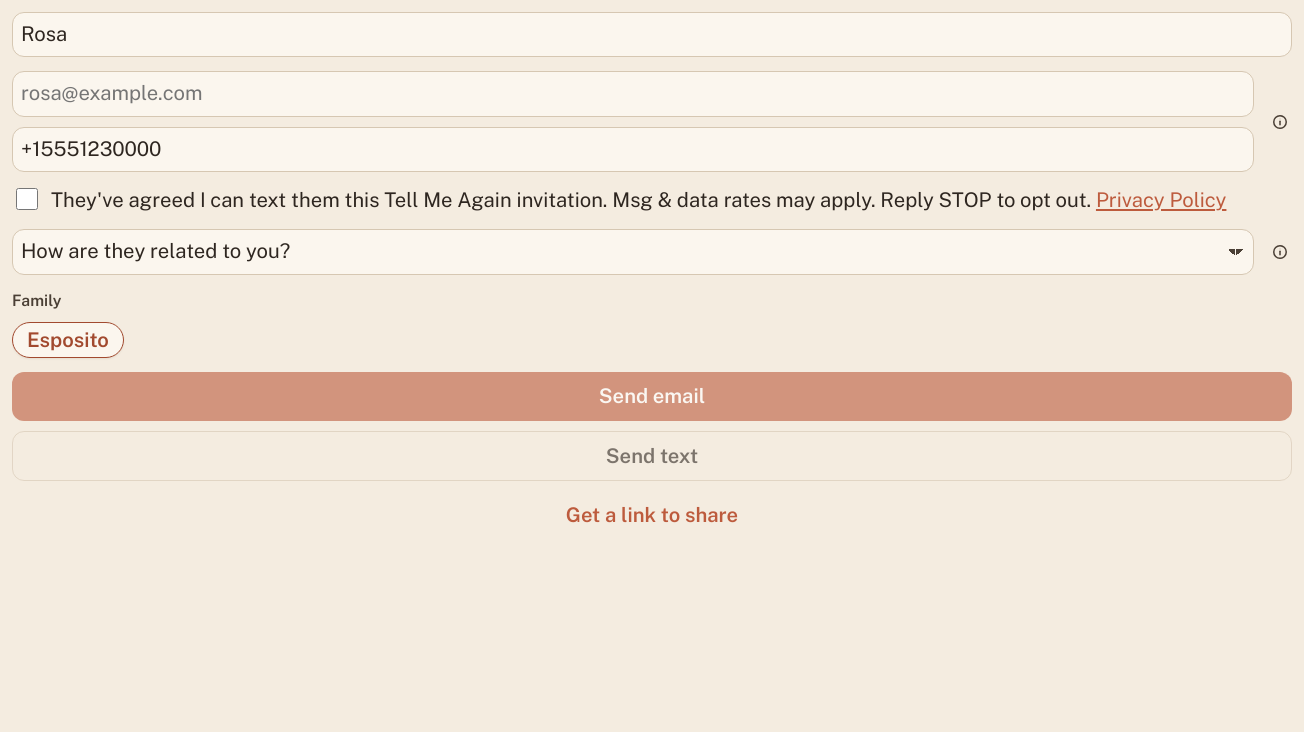
Test case: MemberInviteForm — SMS consent (Twilio TFV) › enables Send text only after the SMS consent checkbox is checked
This screenshot has width=1304, height=732.
Expected: the button "Send text" is disabled, [12,431,1292,481]
Click the checkbox with test id "invite-sms-consent-checkbox" at [27, 199], box [16,188,38,210]
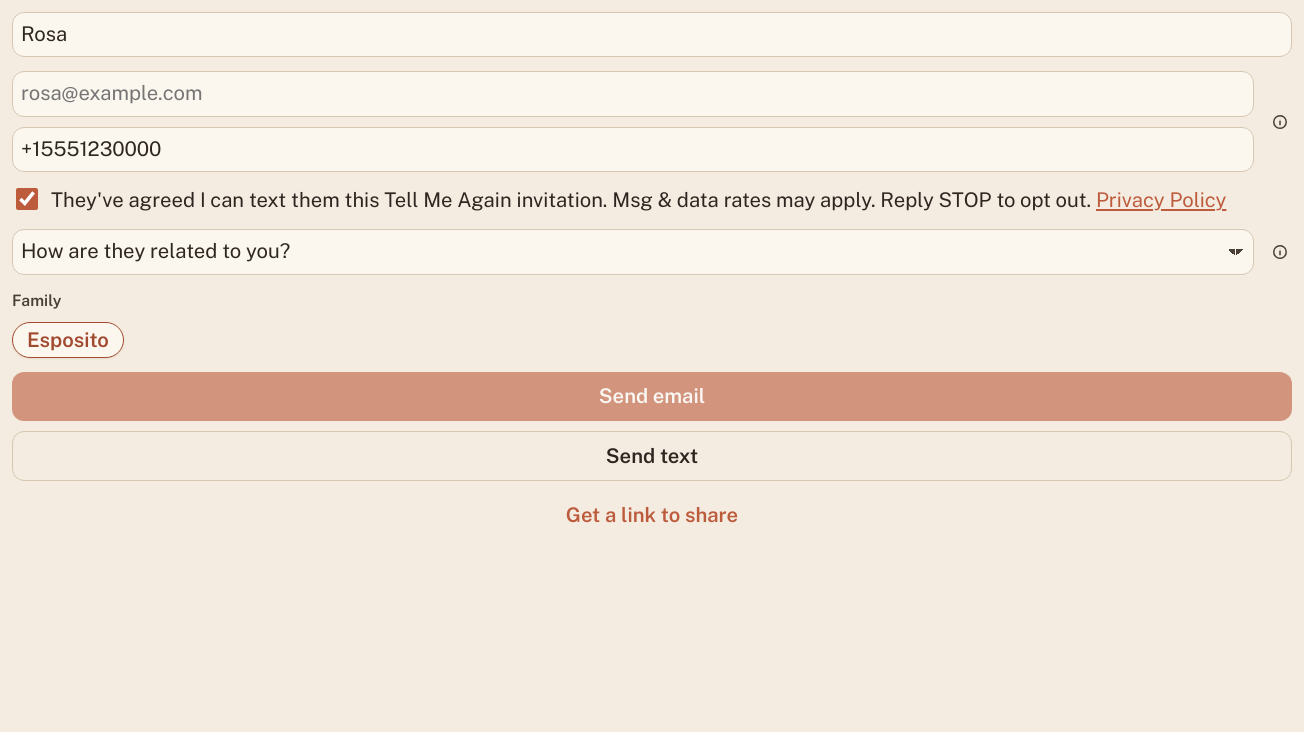
Expected: the button "Send text" is enabled, [12,431,1292,481]
